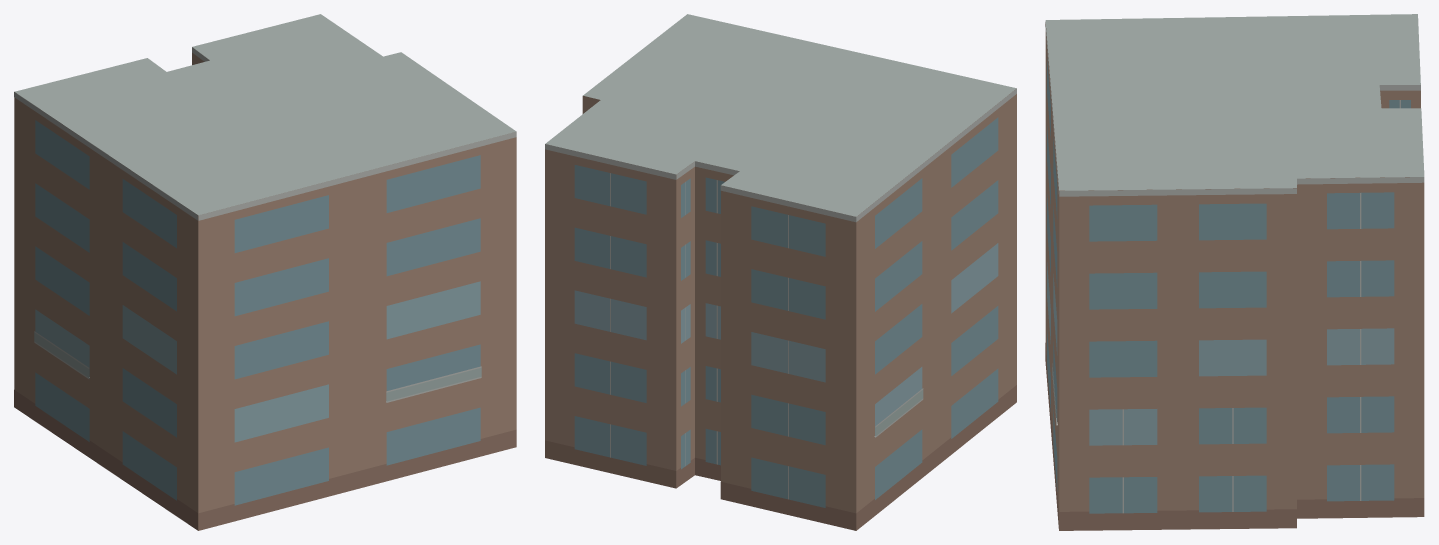
File: survey-upis-32656718.glb
3 views of the same model, side by side, from view 1: azimuth 30°, elevation 25°; view 2: azimuth 150°, elevation 25°; view 3: azimuth 270°, elevation 25° (orthographic). The views are drawn at different scales.
Visible parts, largest first — view 1: survey-upis-32656718.tmp; view 2: survey-upis-32656718.tmp; view 3: survey-upis-32656718.tmp.
Part boxes in pixels (x1,y1,x2,y2): survey-upis-32656718.tmp: (14,14,516,530); survey-upis-32656718.tmp: (545,14,1016,530); survey-upis-32656718.tmp: (1045,14,1424,530).
Bounding box in the file's own units: 15.62 × 14 × 14.15.
